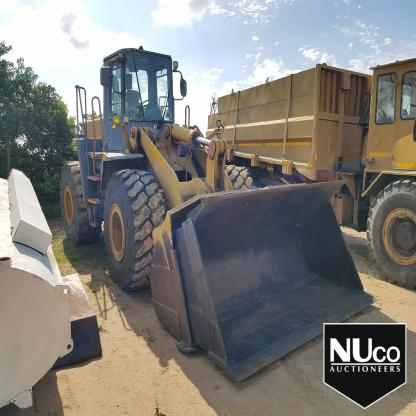bull_dozer/loader/grader: (42, 33, 387, 387)
